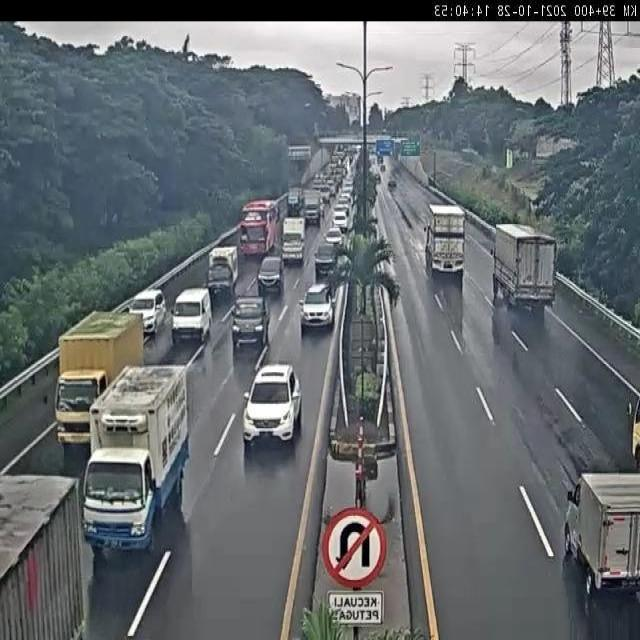Bus: (239, 199, 283, 257)
Car: (242, 362, 302, 448), (231, 293, 270, 352), (299, 282, 334, 331), (258, 255, 284, 295), (314, 241, 338, 278), (332, 207, 350, 233), (336, 191, 352, 219), (325, 227, 343, 250), (342, 178, 354, 203), (323, 177, 337, 197)
Truck: (82, 362, 187, 556), (51, 313, 143, 462), (561, 464, 640, 593), (492, 224, 558, 318), (425, 204, 466, 276), (208, 245, 240, 298), (281, 217, 307, 266), (303, 190, 322, 224)
Van: (172, 288, 214, 346), (127, 289, 166, 338)
